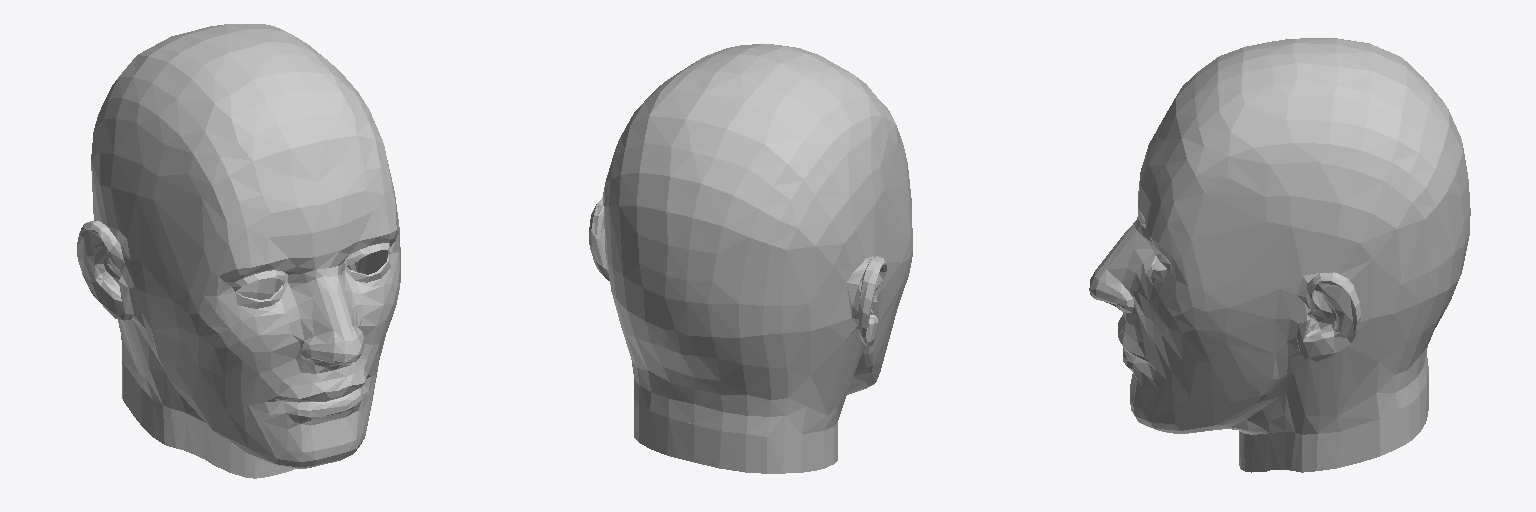
File: Head Complexity 1.obj
The picture shows the model from 3 angles: view 1: azimuth 30°, elevation 25°; view 2: azimuth 150°, elevation 25°; view 3: azimuth 270°, elevation 25°; orthographic projection.
Visible parts, largest first — view 1: Male_Head_Complexity_1_male_head.obj.005; view 2: Male_Head_Complexity_1_male_head.obj.005; view 3: Male_Head_Complexity_1_male_head.obj.005.
Boxes of the visible parts, x1=… form: Male_Head_Complexity_1_male_head.obj.005: x1=77, y1=24, x2=400, y2=478; Male_Head_Complexity_1_male_head.obj.005: x1=589, y1=44, x2=912, y2=473; Male_Head_Complexity_1_male_head.obj.005: x1=1089, y1=38, x2=1470, y2=472.
Size of the model in its own units: 30.68 by 42.06 by 35.62.